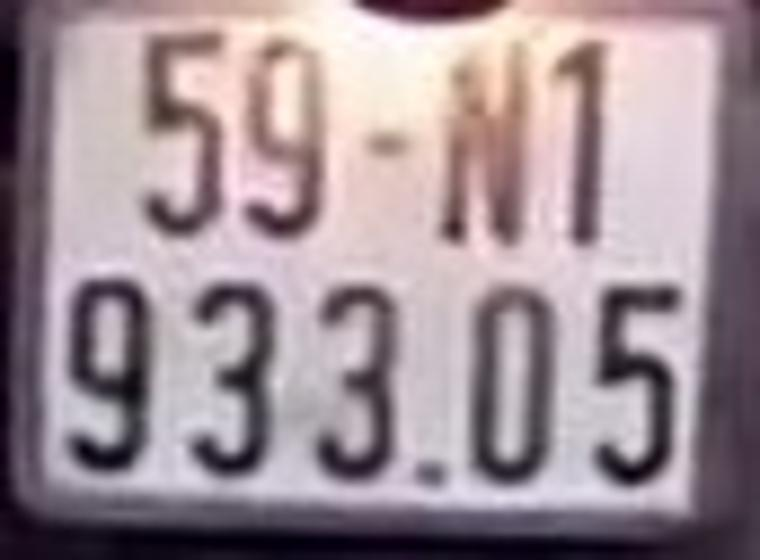-: (352, 127, 410, 176)
.: (413, 449, 446, 489)
0: (462, 282, 561, 488)
1: (553, 39, 614, 248)
3: (182, 271, 278, 480), (306, 274, 398, 487)
5: (131, 24, 227, 245), (592, 278, 681, 492)
9: (246, 35, 337, 239), (63, 274, 155, 475)
N: (439, 42, 531, 248)
